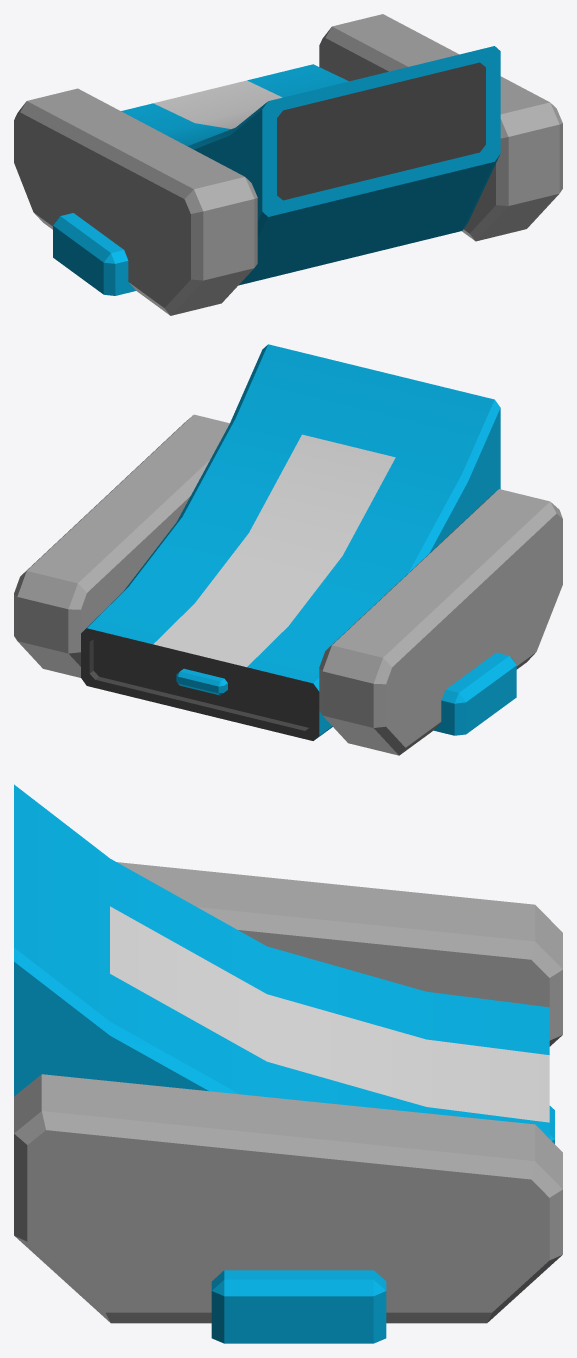
File: Jumper.fbx
3 views of the same model, one above another, from view 1: azimuth 30°, elevation 25°; view 2: azimuth 150°, elevation 25°; view 3: azimuth 270°, elevation 25° (orthographic). The views are drawn at different scales.
Visible parts, largest first — view 1: Jumper; view 2: Jumper; view 3: Jumper.
Boxes of the visible parts, left/top/right/bottom form: Jumper: left=14, top=14, right=562, bottom=315; Jumper: left=14, top=344, right=562, bottom=755; Jumper: left=14, top=784, right=562, bottom=1343.
Bounding box in the file's own units: 155 × 80.16 × 121.
